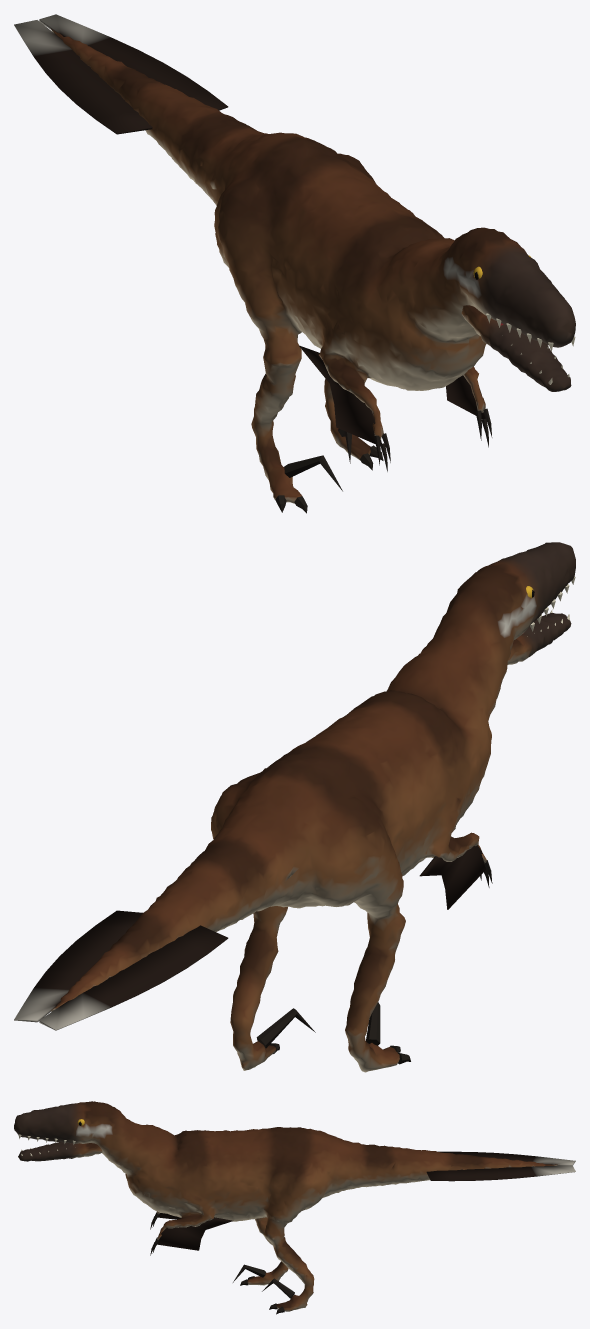
Rendered from Utahraptor.fbx.
3 views of the same model, one above another, from view 1: azimuth 30°, elevation 25°; view 2: azimuth 150°, elevation 25°; view 3: azimuth 270°, elevation 25° (orthographic). The views are drawn at different scales.
Parts seen in each view (by area): view 1: Utahraptor; view 2: Utahraptor; view 3: Utahraptor.
Part boxes in pixels (x1,y1,x2,y2): Utahraptor: [14, 14, 575, 513]; Utahraptor: [14, 542, 575, 1072]; Utahraptor: [14, 1101, 575, 1314].
Size of the model in its own units: 0.3343 by 0.7367 by 1.93.
